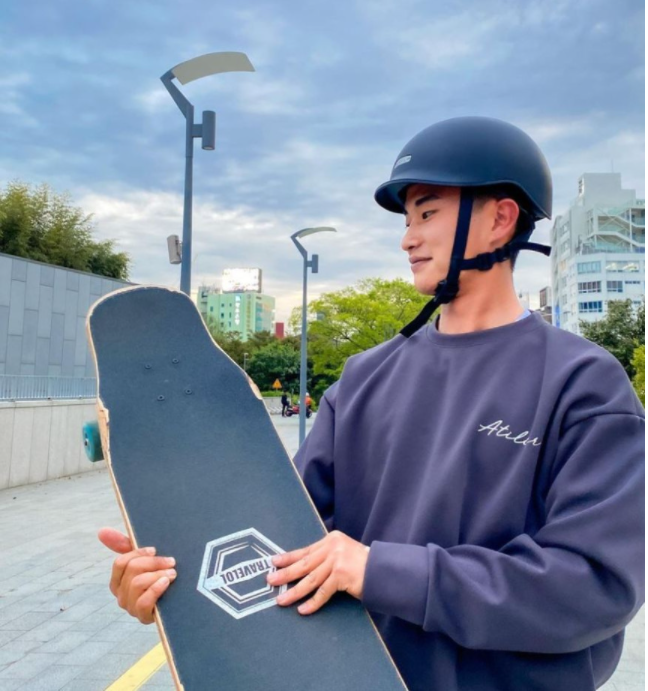with helmet: (374, 113, 559, 301)
